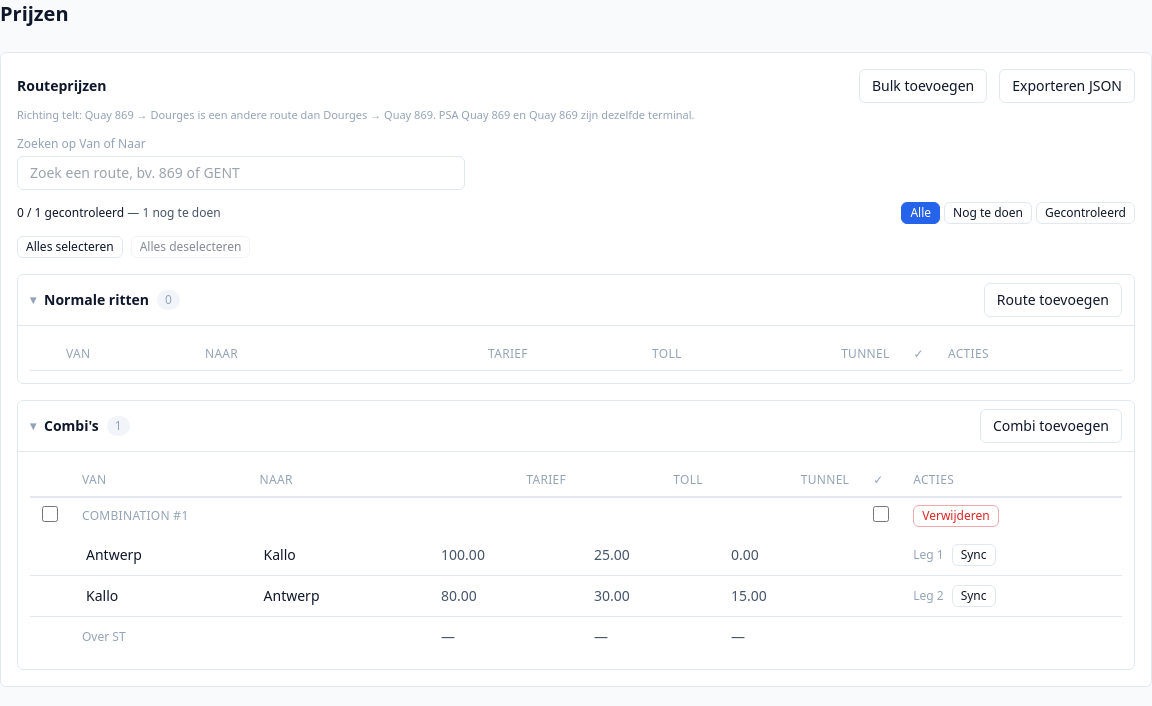
Test: removing a route › a whole Combination › removes the group and both legs from the screen
Expected: the column heading "Combination #1" is shown, left=70, top=497, right=861, bottom=534
Click the button with aria-label "Verwijderen Combination 1" at x=956, y=516, box left=913, top=505, right=999, bottom=527
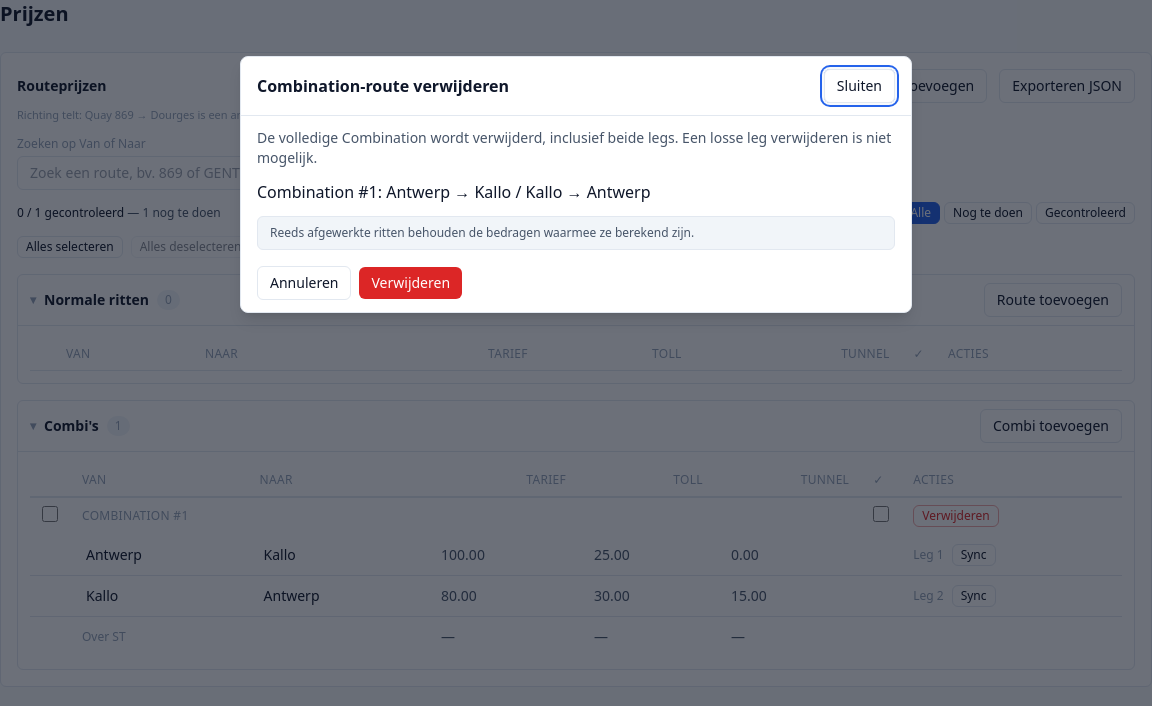
Click the button "Verwijderen" at x=411, y=283, box left=360, top=267, right=462, bottom=299
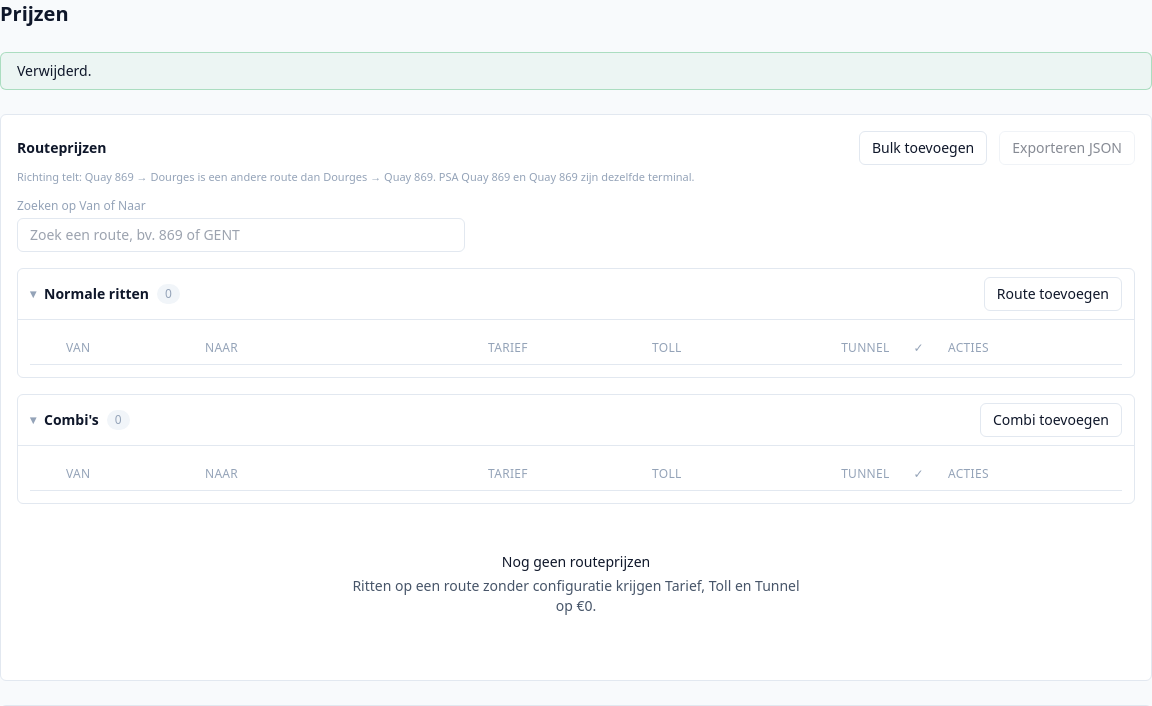
Expected: the column heading "Combination #1" is gone
Expected: the button "Antwerp" is gone
Expected: the button "Kallo" is gone
